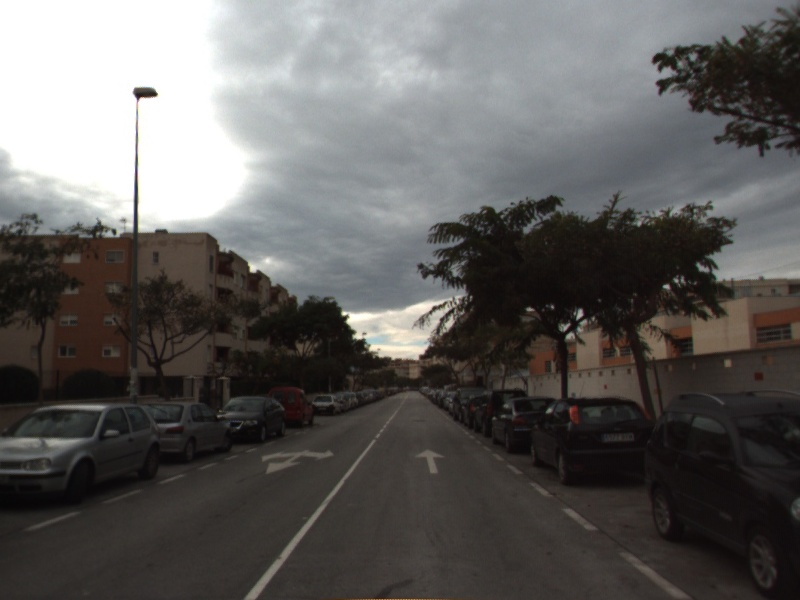STRAIGHT: (413, 447, 447, 475)
